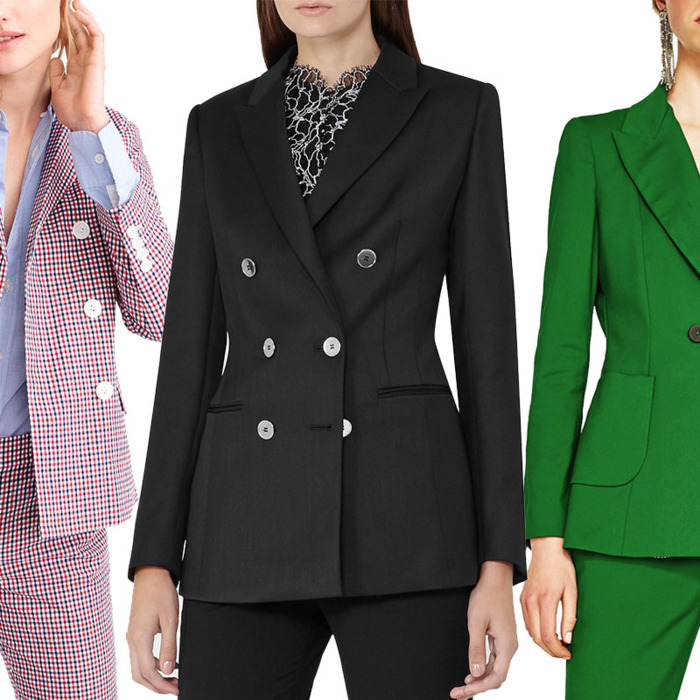F_W_suit jacket: (139, 75, 533, 574)
